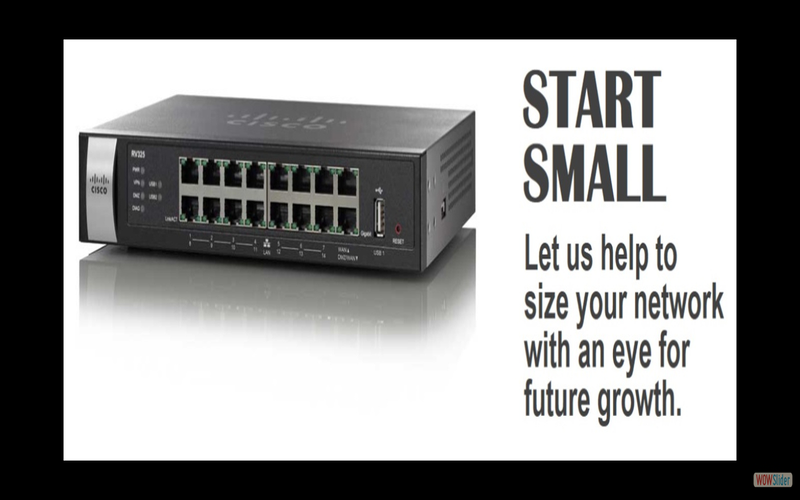Switches: (65, 82, 487, 277)
